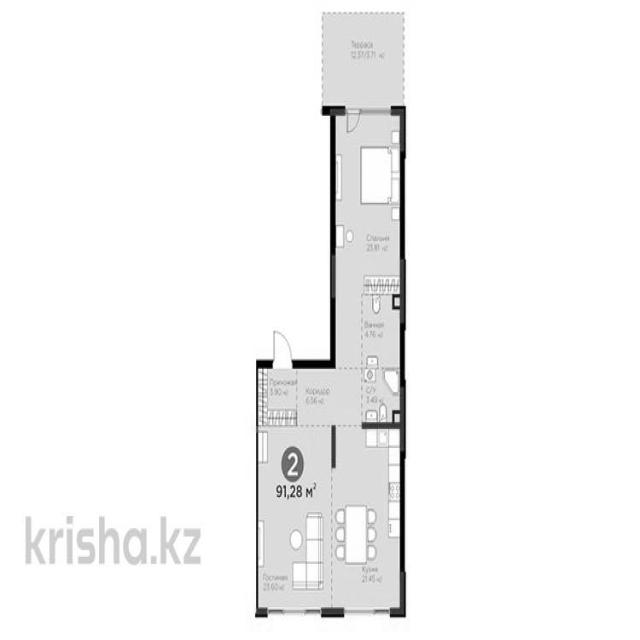balcony: (322, 12, 405, 108)
bathroom: (362, 293, 404, 365), (361, 367, 403, 427)
hallway: (297, 367, 363, 426), (257, 368, 297, 427)
kitchen: (332, 425, 403, 611)
living_room: (257, 427, 334, 613), (333, 112, 404, 294)
